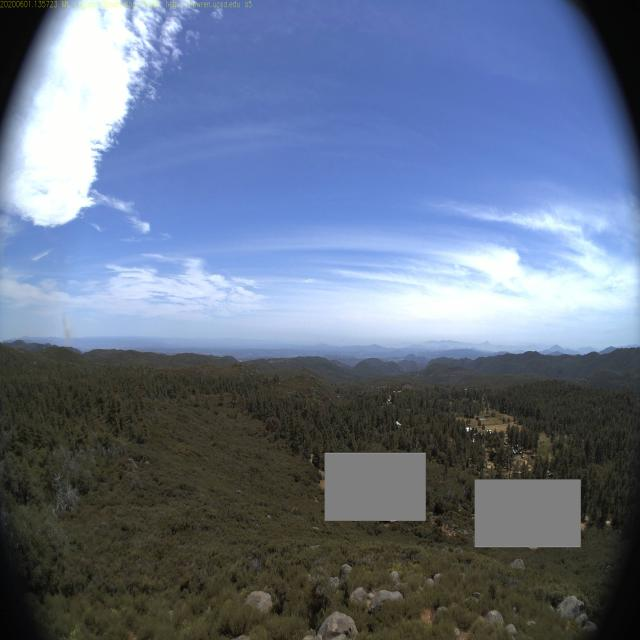smoke: (62, 308, 74, 347)
